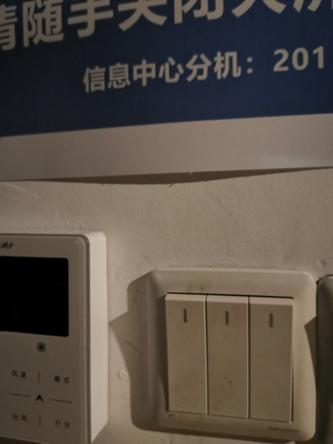switch: (199, 290, 255, 421), (245, 294, 300, 427), (159, 287, 213, 416)
